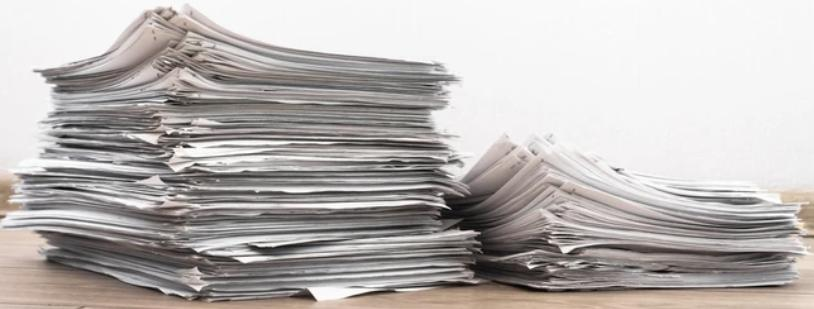Paper: (35, 60, 472, 290), (468, 145, 805, 293)
